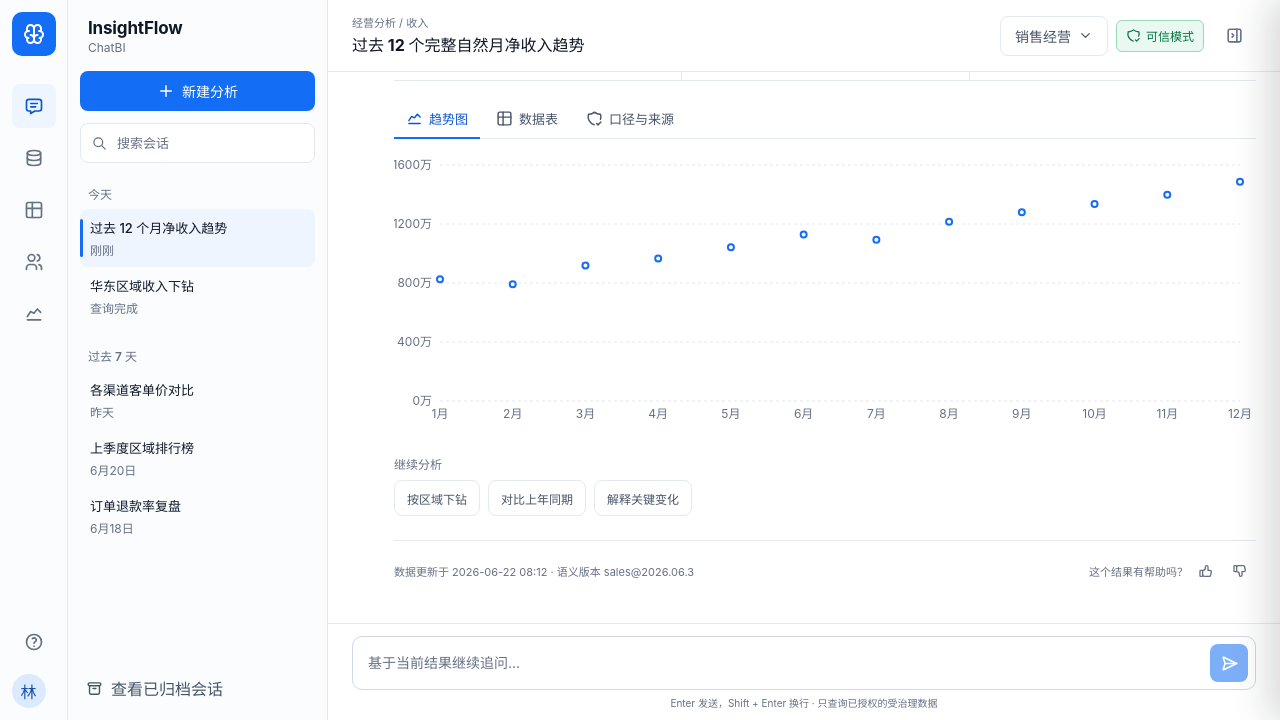
Test case: Workbench UI › collects structured negative feedback with an optional corrected answer and issue report
(page scrolled)
Click the button named "结果无帮助" at [1240, 571], box [1224,555,1256,587]
(page scrolled)
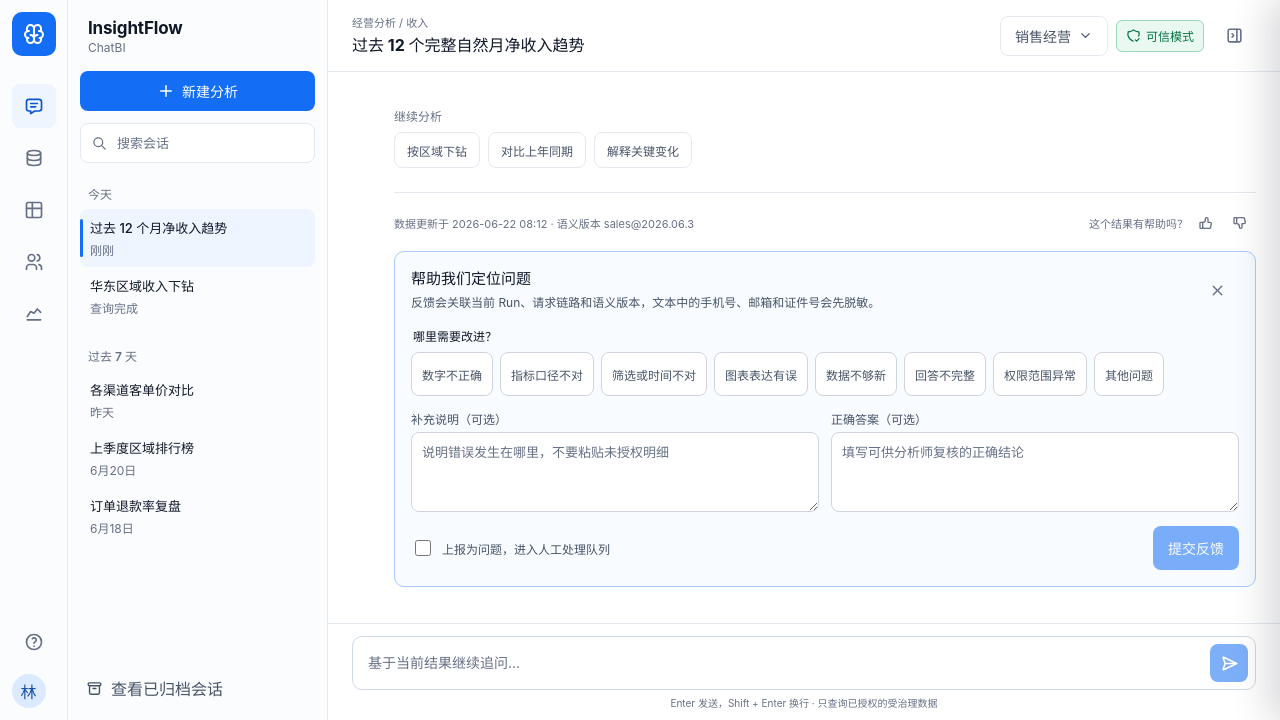
Expected: the text "反馈会关联当前 Run、请求链路和语义版本，文本中的手机号、邮箱和证件号会先脱敏。" is shown, [411,293,880,312]
Expected: the button "提交反馈" is disabled, [1153,526,1239,570]
Click the text "数字不正确" at [452, 374], box [411,352,493,396]
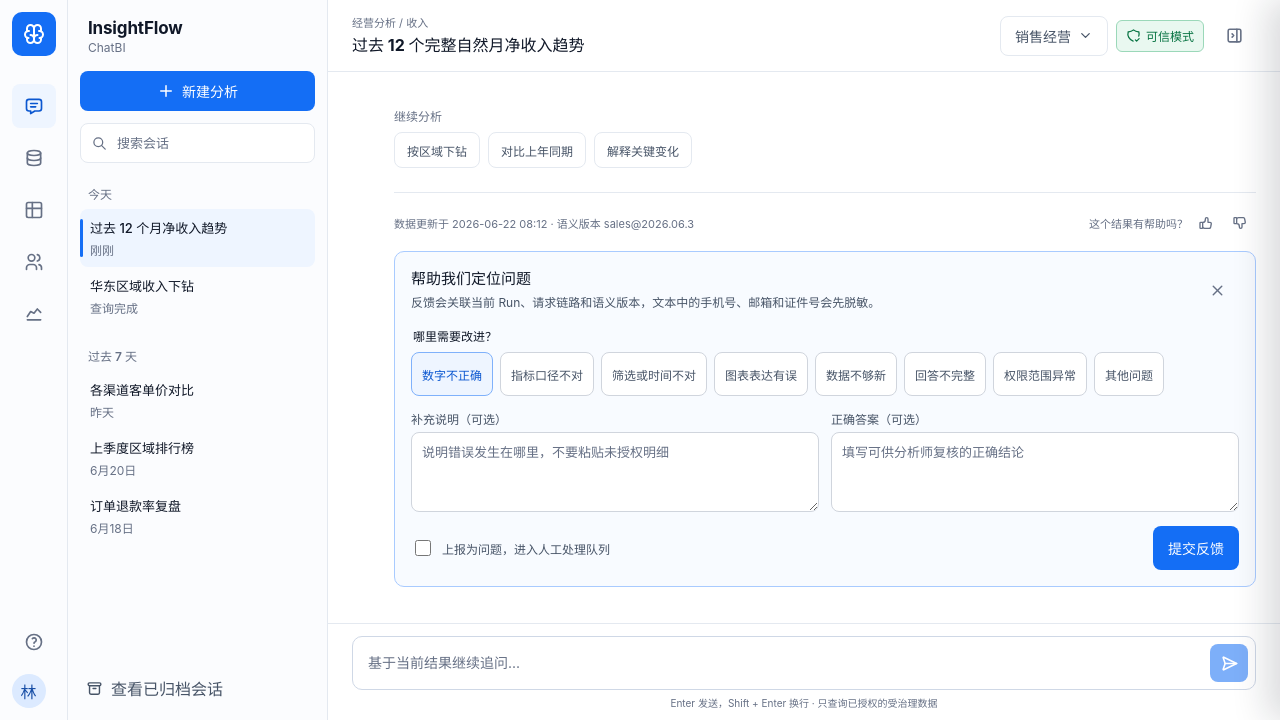
Type "正确结果是 1,420 万元" into the text box labelled "正确答案（可选）" at [1035, 472], box [831,432,1239,512]
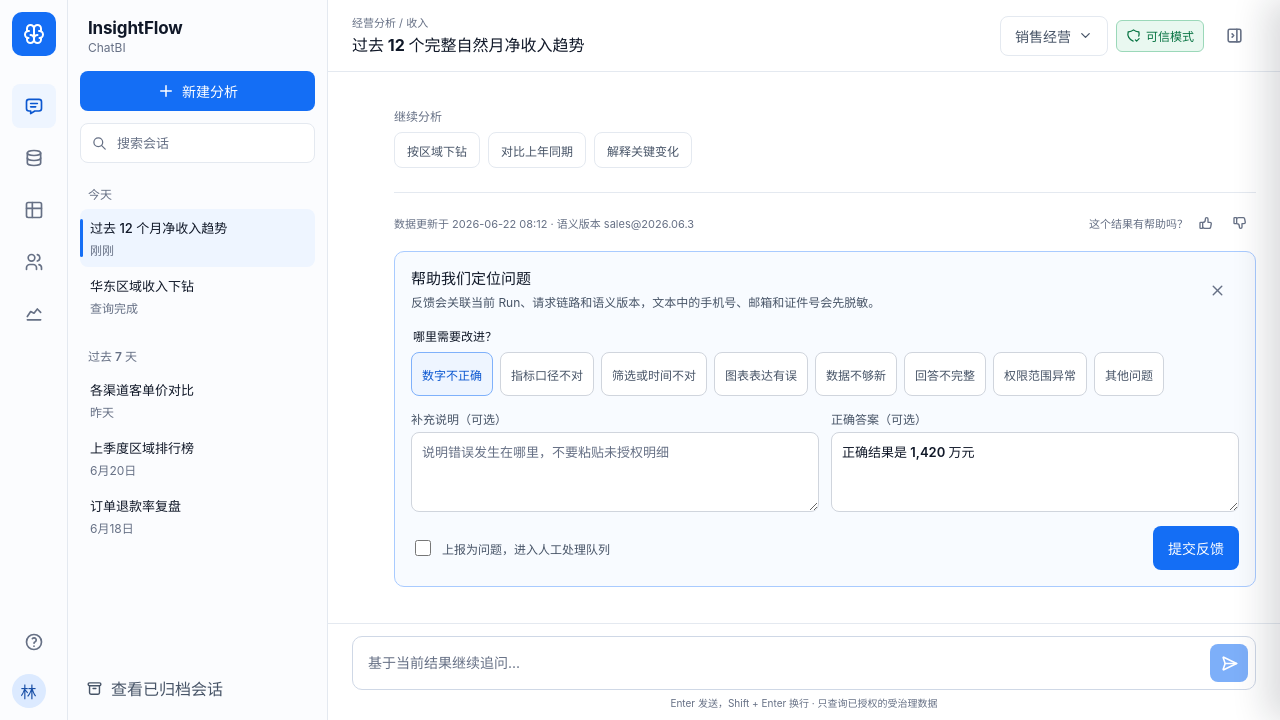
Click the text "上报为问题，进入人工处理队列" at [526, 548], box [442,540,610,556]
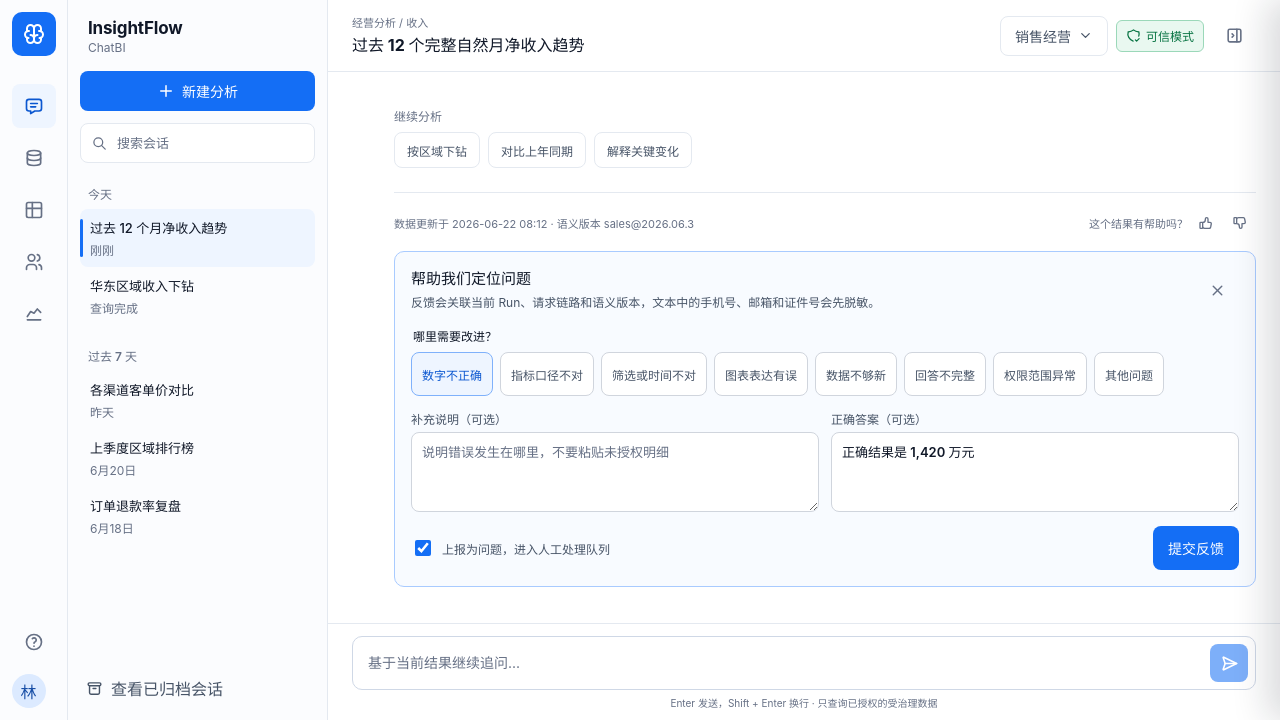
Click the button "提交反馈" at [1196, 548], box [1153,526,1239,570]
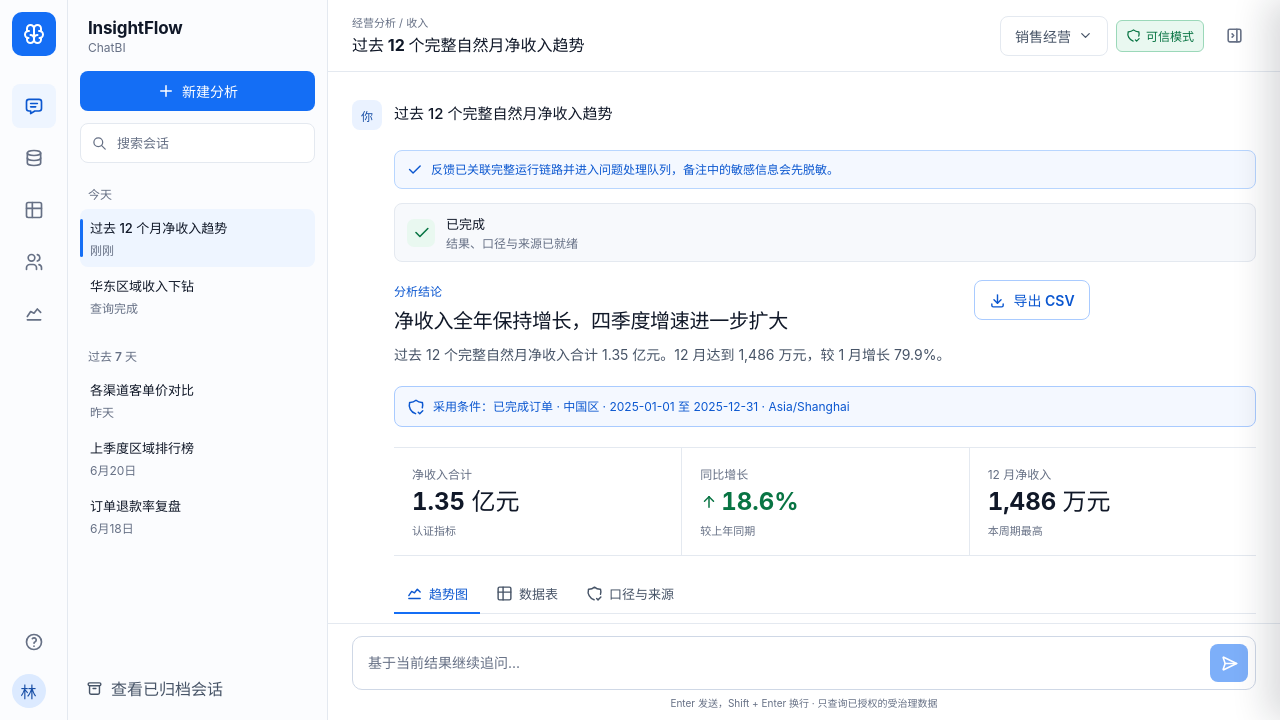
Expected: the text "反馈已关联完整运行链路并进入问题处理队列，备注中的敏感信息会先脱敏。" is shown, [431,160,839,179]
